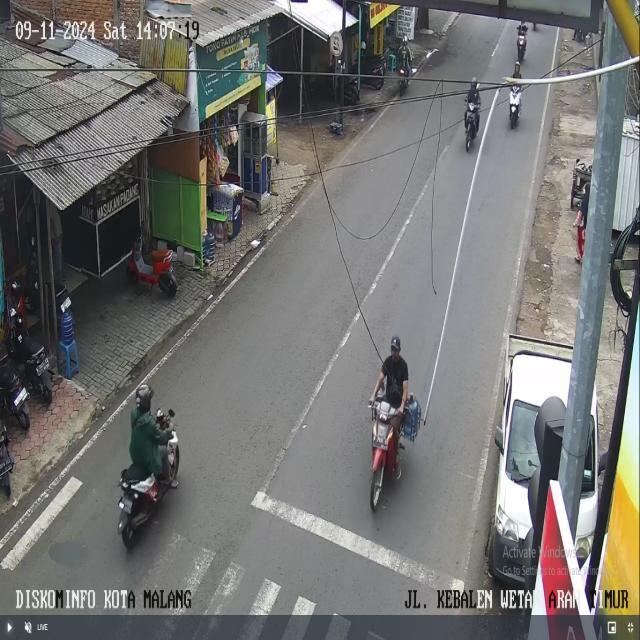Helmet: (136, 384, 153, 412), (10, 280, 22, 300), (391, 335, 400, 350), (471, 77, 477, 89), (515, 61, 520, 69), (402, 35, 407, 43)
Number Plate: (14, 388, 27, 406), (119, 497, 132, 513), (36, 358, 48, 375), (60, 297, 70, 311)
Rearview Mirror: (494, 425, 503, 453), (598, 451, 608, 474)
